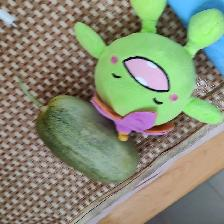gua: (40, 106, 145, 180)
